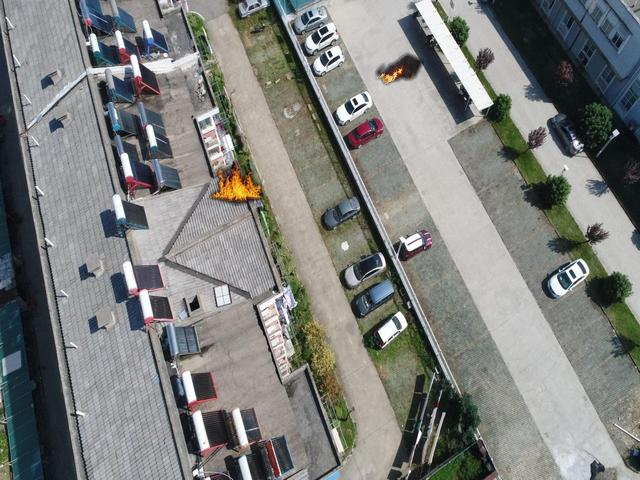fire: (208, 155, 263, 205), (375, 52, 422, 84)
